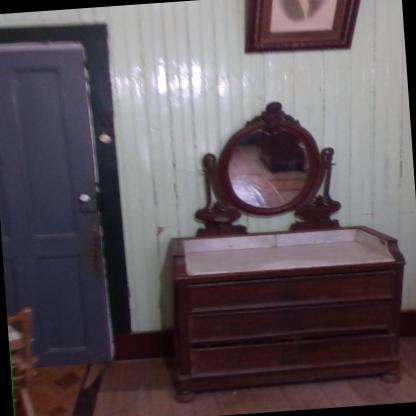closed: (0, 8, 148, 385)
